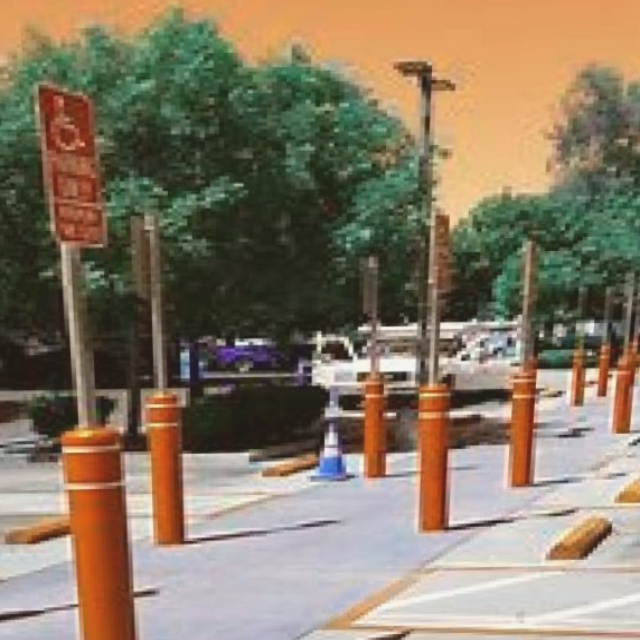ISA: (44, 95, 91, 163)
